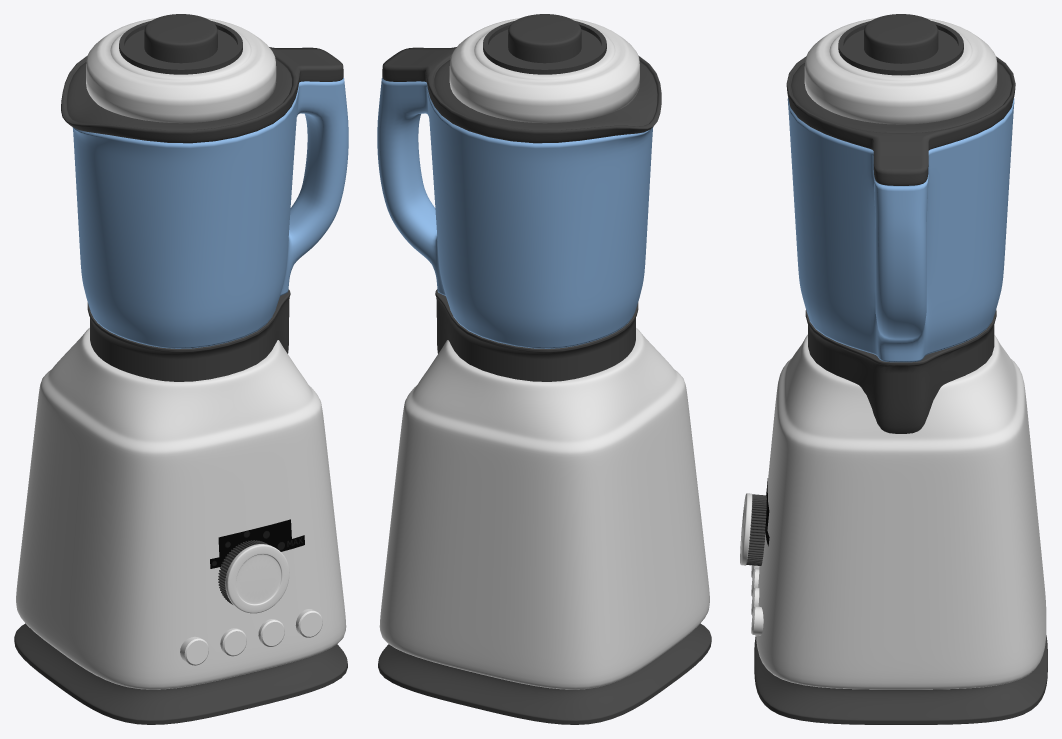
Rendered from blender.fbx.
The picture shows the model from 3 angles, left to right: view 1: azimuth 30°, elevation 25°; view 2: azimuth 150°, elevation 25°; view 3: azimuth 270°, elevation 25°; orthographic projection.
Parts seen in each view (by area): view 1: Cube, Cube.002, Cylinder, Cube.001, Cylinder.001, blender_vulcain_74.par:1.003, Plane, blender_vulcain_86.par:1.002; view 2: Cube, Cube.002, Cylinder, Cube.001; view 3: Cube, Cube.002, Cube.001, Cylinder, blender_vulcain_86.par:1.002, blender_vulcain_74.par:1.003, Cylinder.001.
Part boxes in pixels (bbox=[...]): Cube: bbox=[14, 328, 347, 724]; Cube.002: bbox=[72, 78, 348, 348]; Cylinder: bbox=[86, 14, 276, 123]; Cube.001: bbox=[61, 47, 343, 381]; Cylinder.001: bbox=[225, 544, 289, 613]; blender_vulcain_74.par:1.003: bbox=[180, 609, 322, 665]; Plane: bbox=[210, 519, 304, 568]; blender_vulcain_86.par:1.002: bbox=[218, 540, 268, 604]; Cube: bbox=[378, 328, 711, 724]; Cube.002: bbox=[377, 78, 653, 348]; Cylinder: bbox=[449, 14, 639, 123]; Cube.001: bbox=[382, 47, 661, 381]; Cube: bbox=[754, 334, 1047, 724]; Cube.002: bbox=[787, 98, 1014, 362]; Cube.001: bbox=[786, 56, 1015, 433]; Cylinder: bbox=[804, 14, 997, 124]; blender_vulcain_86.par:1.002: bbox=[746, 494, 766, 565]; blender_vulcain_74.par:1.003: bbox=[751, 565, 763, 635]; Cylinder.001: bbox=[740, 493, 752, 565].
Bounding box in the file's own units: 23.39 × 49.31 × 21.52.
6 materials, 1 textured.
